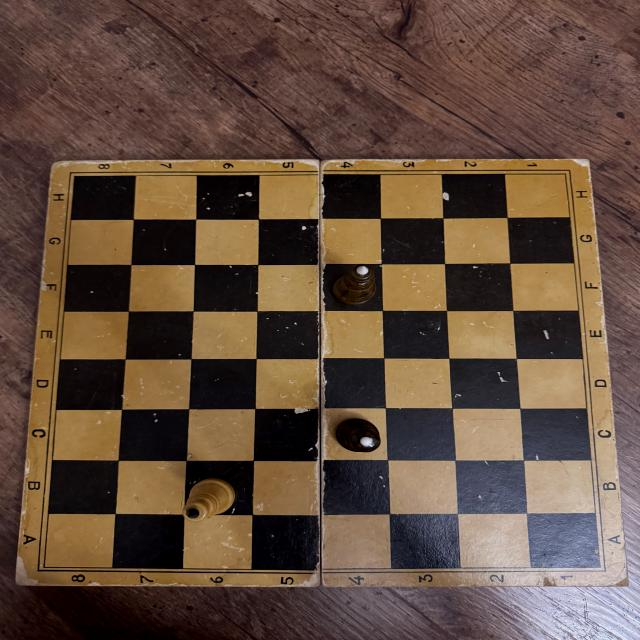black-king: (331, 264, 380, 305)
black-queen: (332, 416, 382, 456)
white-king: (180, 478, 238, 520)
